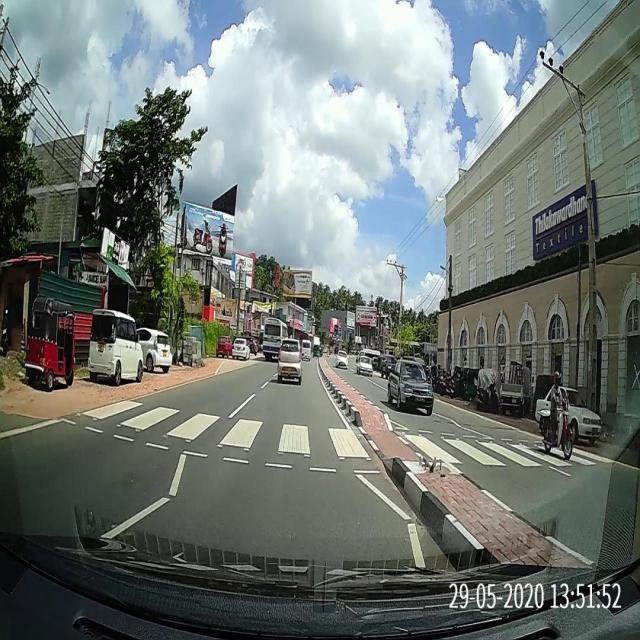Crosswalk: (57, 396, 620, 477)
